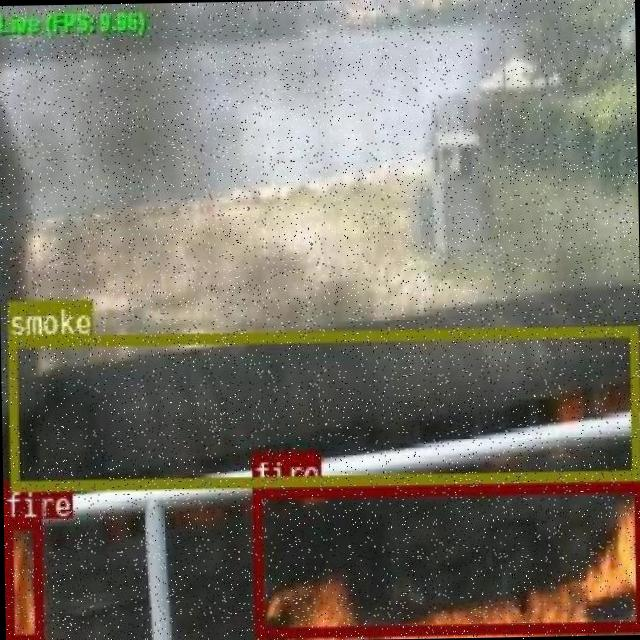smoke: (7, 326, 639, 490)
